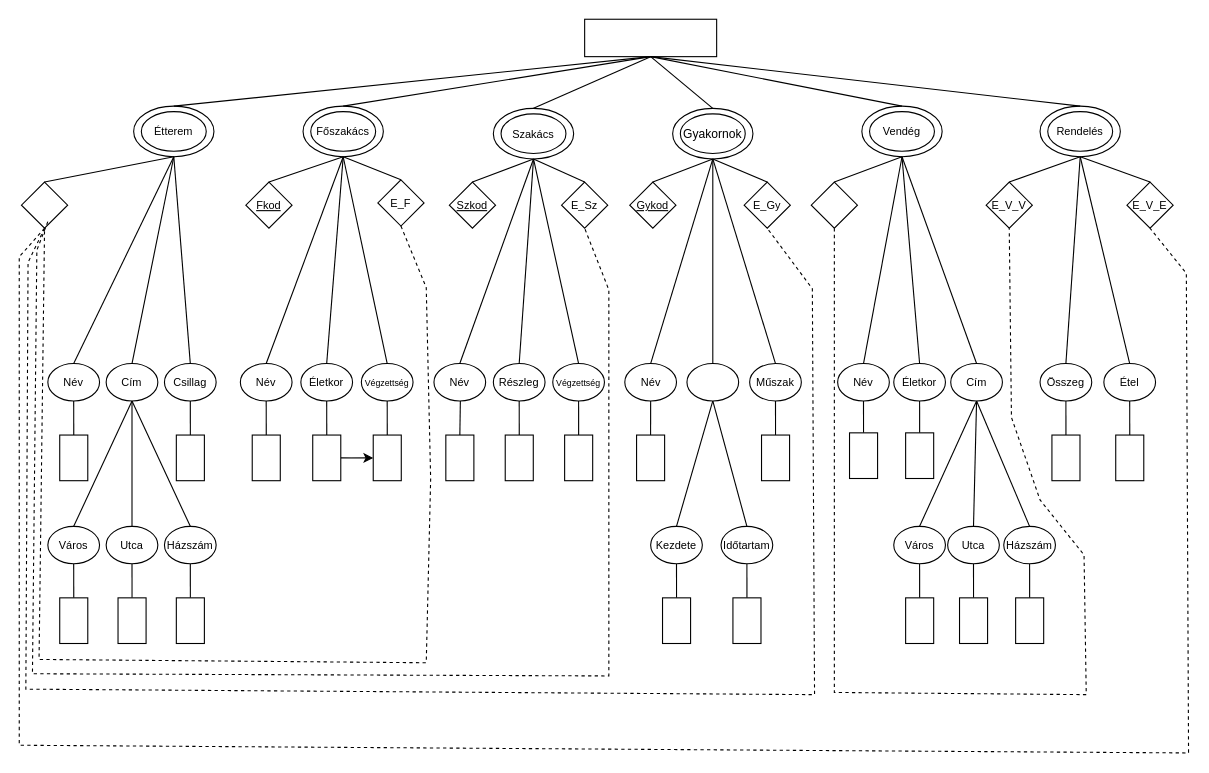
Image size: 1209x773. Some labels were removed from this diagram. The centre of each missing label's shape, as x and y in pixels:
Ekod: point 44,204
GTE1Y4_Vendeglatas: point 650,37
Gyakorlat: point 712,381
Vkod: point 833,204
